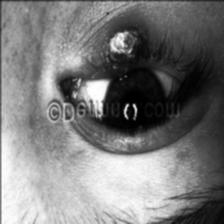Toxin: (100, 26, 146, 68)
